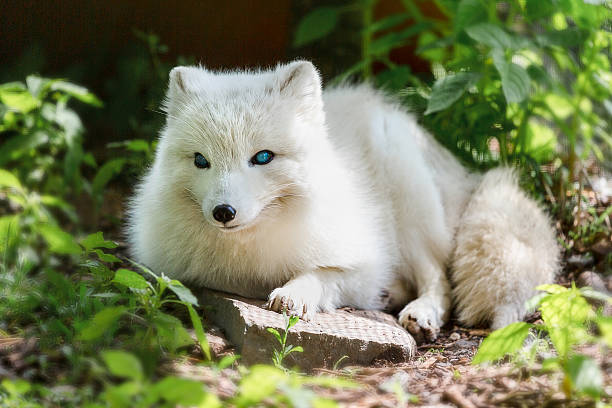arcticfox: (172, 111, 291, 243)
